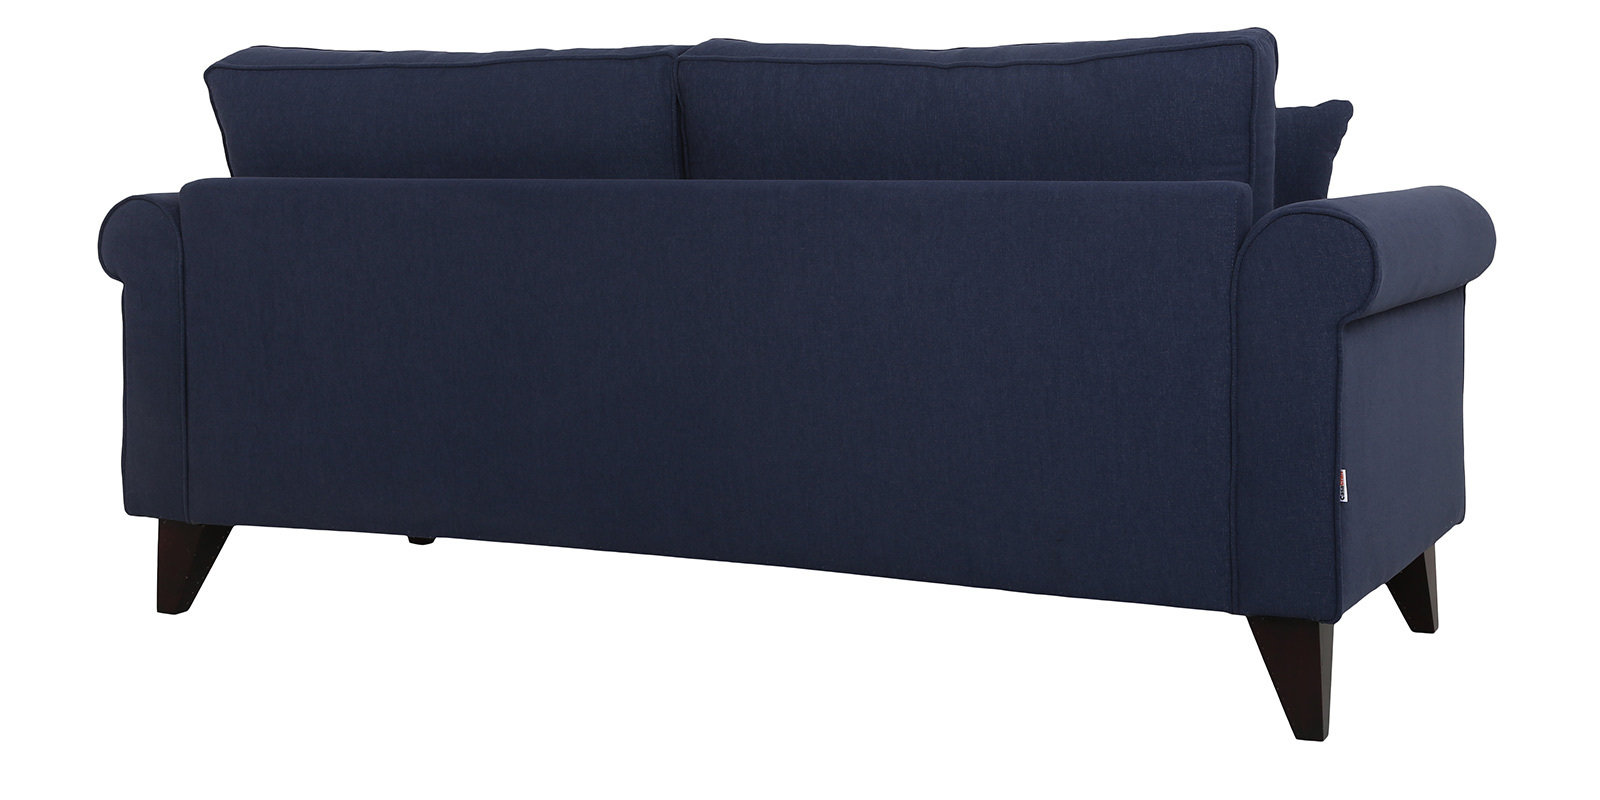Fuego Three Seater Sofa in Navy Blue Colour by CasaCraft: (94, 26, 1503, 800)
